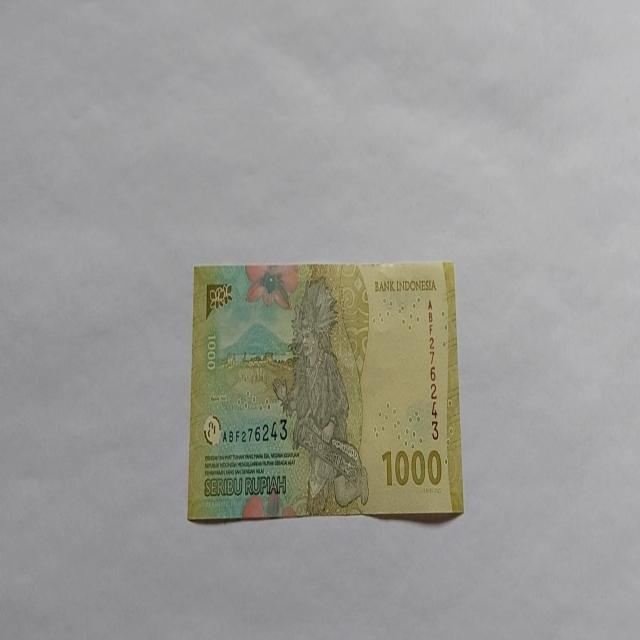seribu rupiah kertas: (186, 260, 464, 522)
